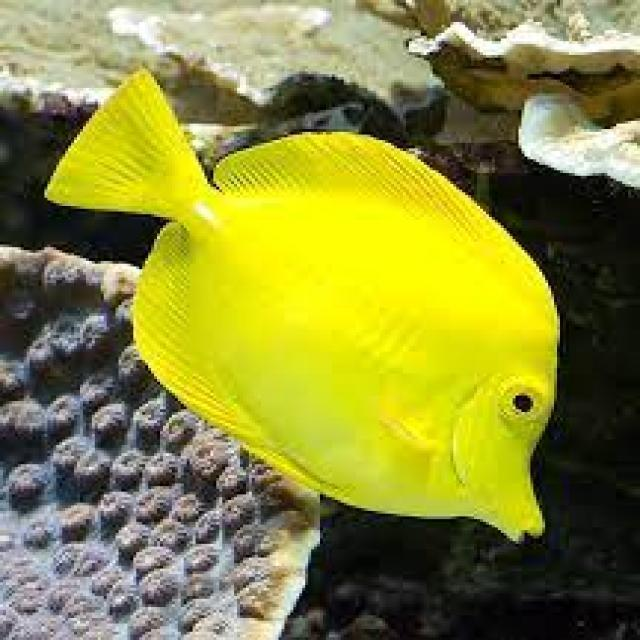TangFish: (42, 65, 561, 548)
